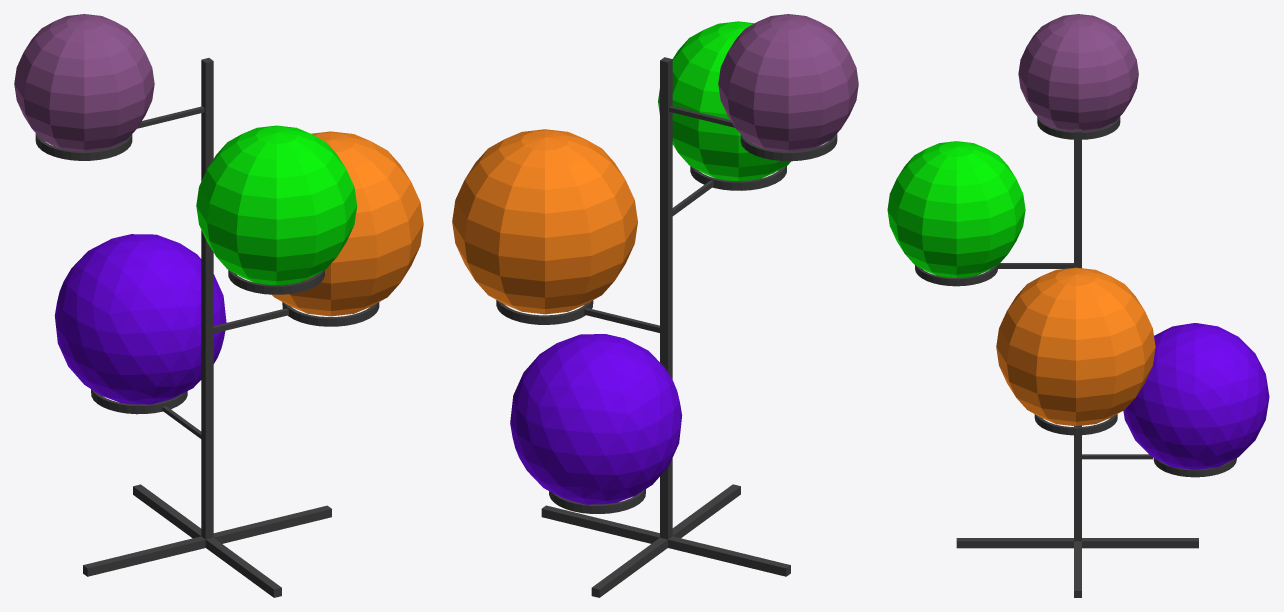
File: StabilityBallRack.001.fbx
3 views of the same model, side by side, from view 1: azimuth 30°, elevation 25°; view 2: azimuth 150°, elevation 25°; view 3: azimuth 270°, elevation 25° (orthographic). The views are drawn at different scales.
Parts seen in each view (by area): view 1: StabilityBallRack.001; view 2: StabilityBallRack.001; view 3: StabilityBallRack.001.
Boxes of the visible parts, box(x1,y1,x2,y2) form: StabilityBallRack.001: box(14, 14, 423, 597); StabilityBallRack.001: box(452, 14, 858, 597); StabilityBallRack.001: box(887, 14, 1269, 597).
Bounding box in the file's own units: 191 × 263 × 191.
